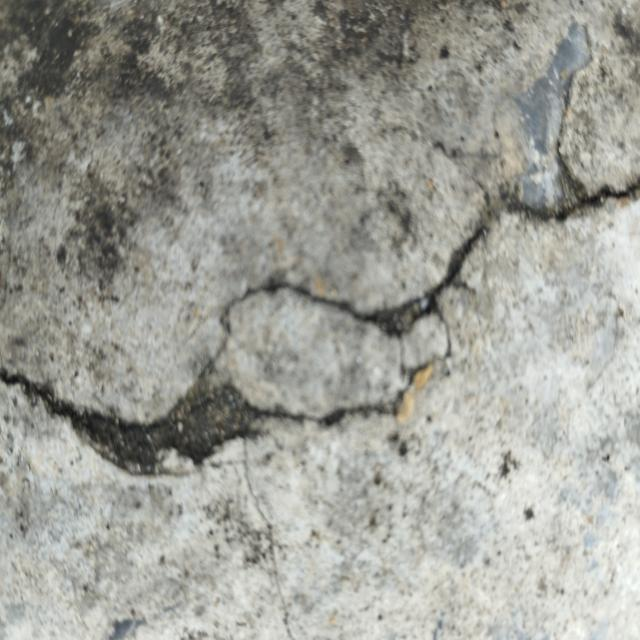branched cracks: (0, 221, 484, 577), (506, 26, 639, 221)
